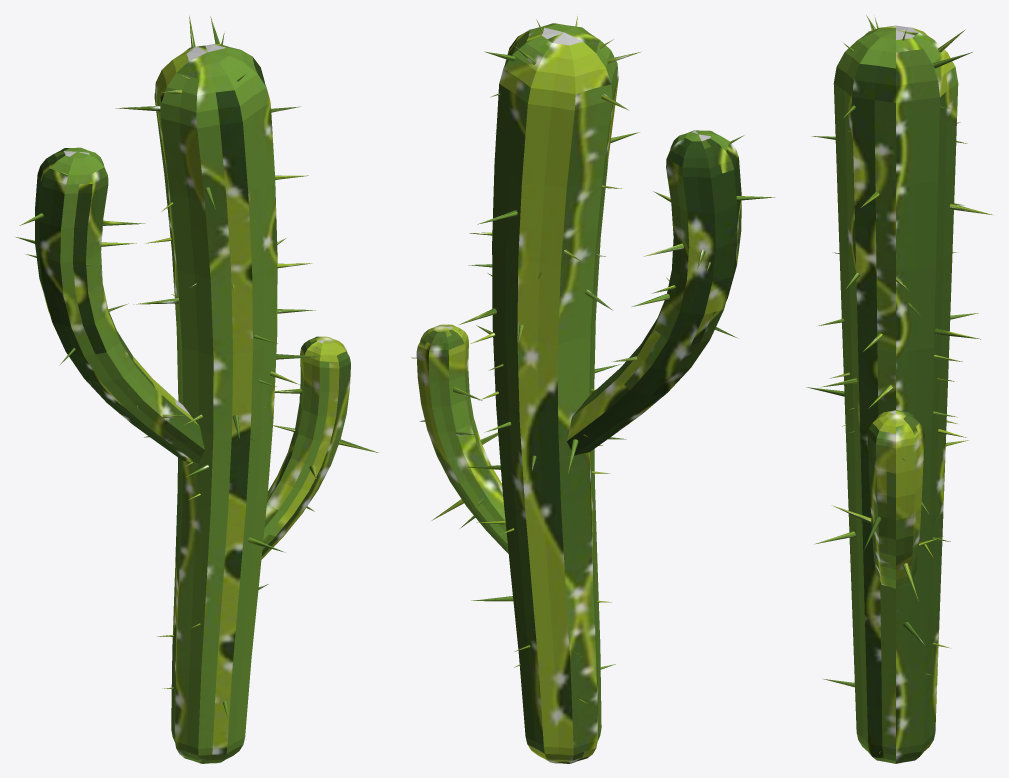
The model's file is cactus.obj.
The picture shows the model from 3 angles, left to right: view 1: azimuth 30°, elevation 25°; view 2: azimuth 150°, elevation 25°; view 3: azimuth 270°, elevation 25°; orthographic projection. The views are drawn at different scales.
Visible parts, largest first — view 1: Cactus_Material; view 2: Cactus_Material; view 3: Cactus_Material.
Boxes of the visible parts, <box> form: Cactus_Material: <box>16,16,378,763</box>; Cactus_Material: <box>411,14,774,763</box>; Cactus_Material: <box>807,15,992,763</box>.
Bounding box in the file's own units: 3.56 × 6.87 × 1.6.
